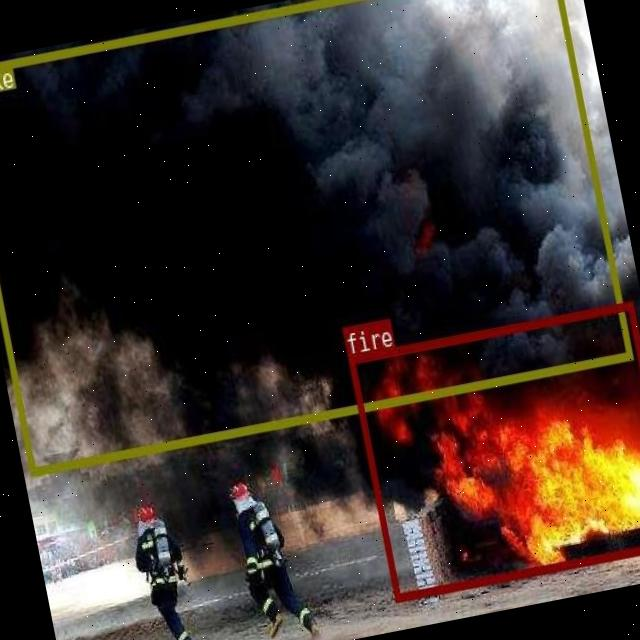fire: (346, 301, 640, 602)
smoke: (0, 0, 632, 474)
